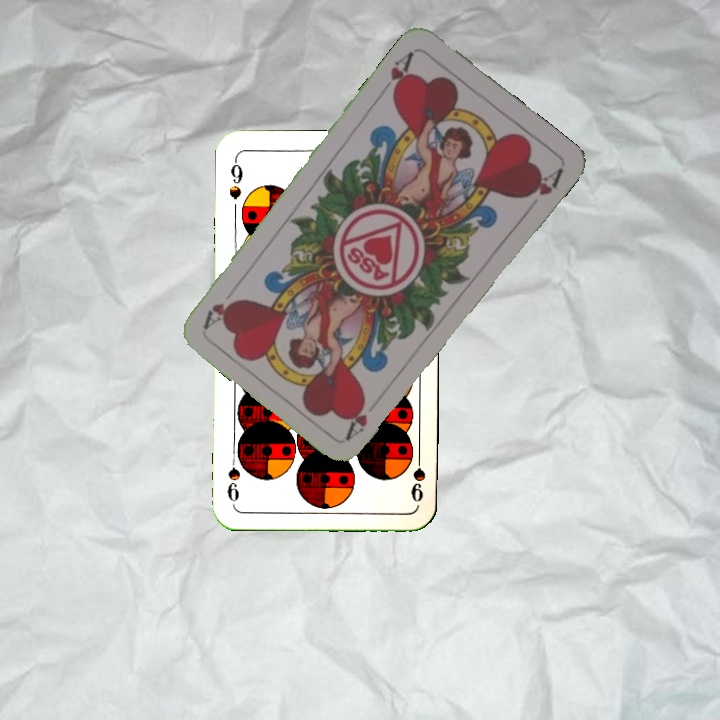HA: (386, 47, 417, 101), (342, 394, 370, 442)
S9: (407, 446, 428, 504), (225, 155, 246, 202)
